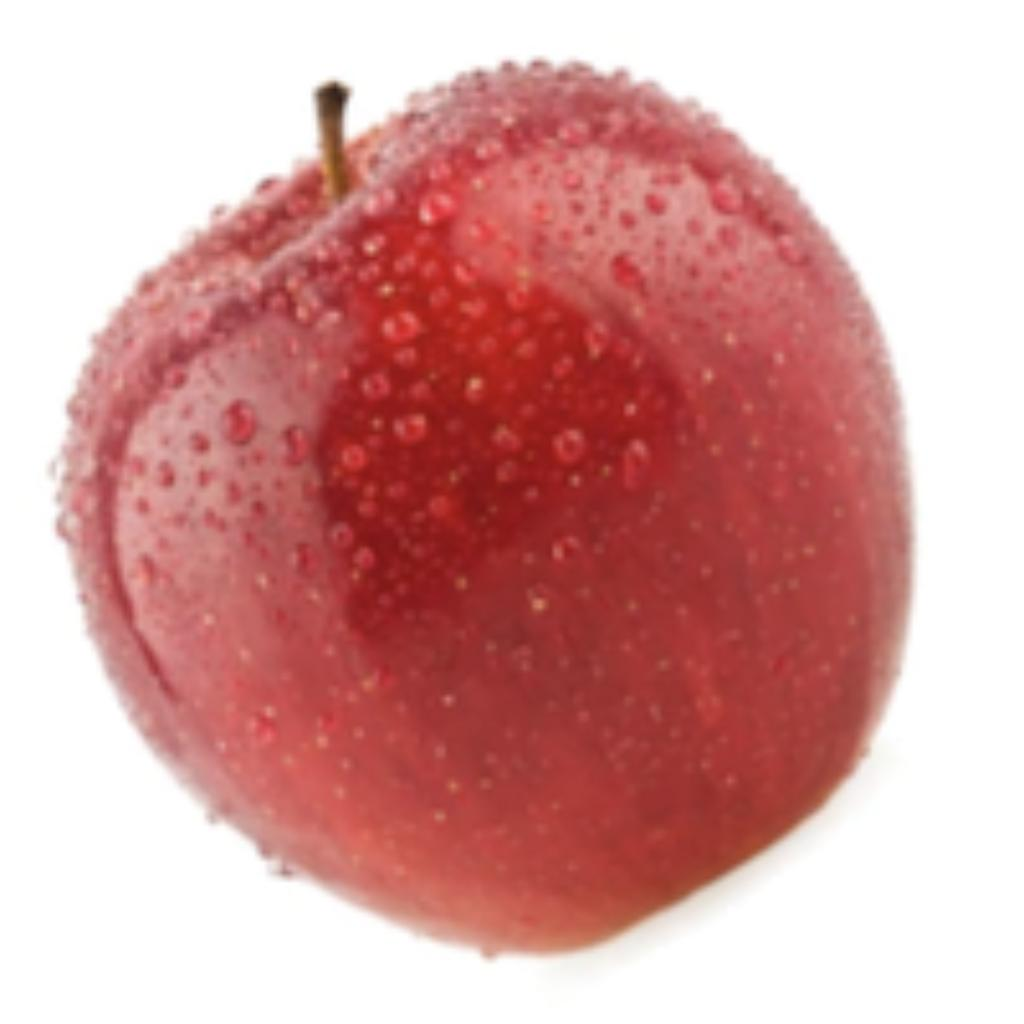apple: (41, 51, 922, 983)
